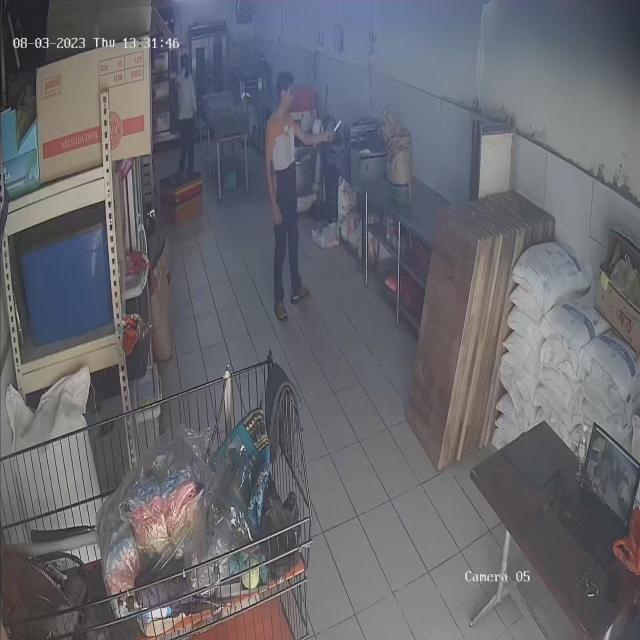Knife: (323, 110, 350, 142)
